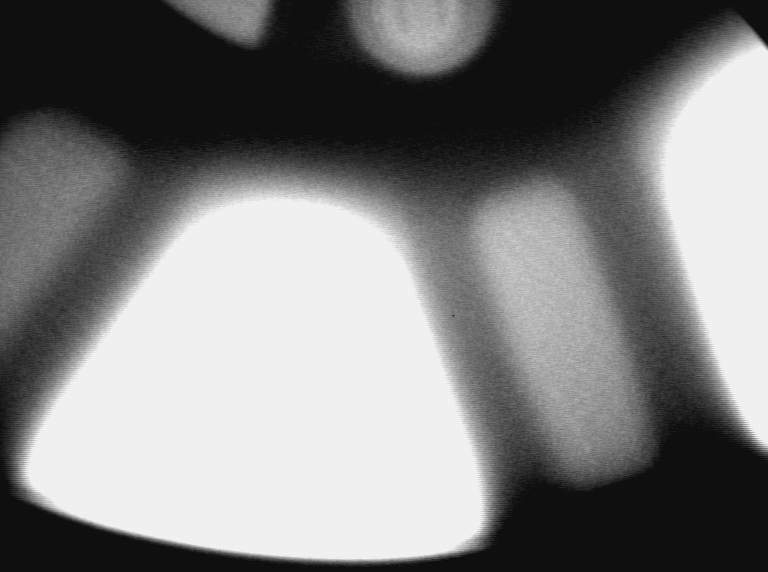defect: (571, 425, 601, 469)
